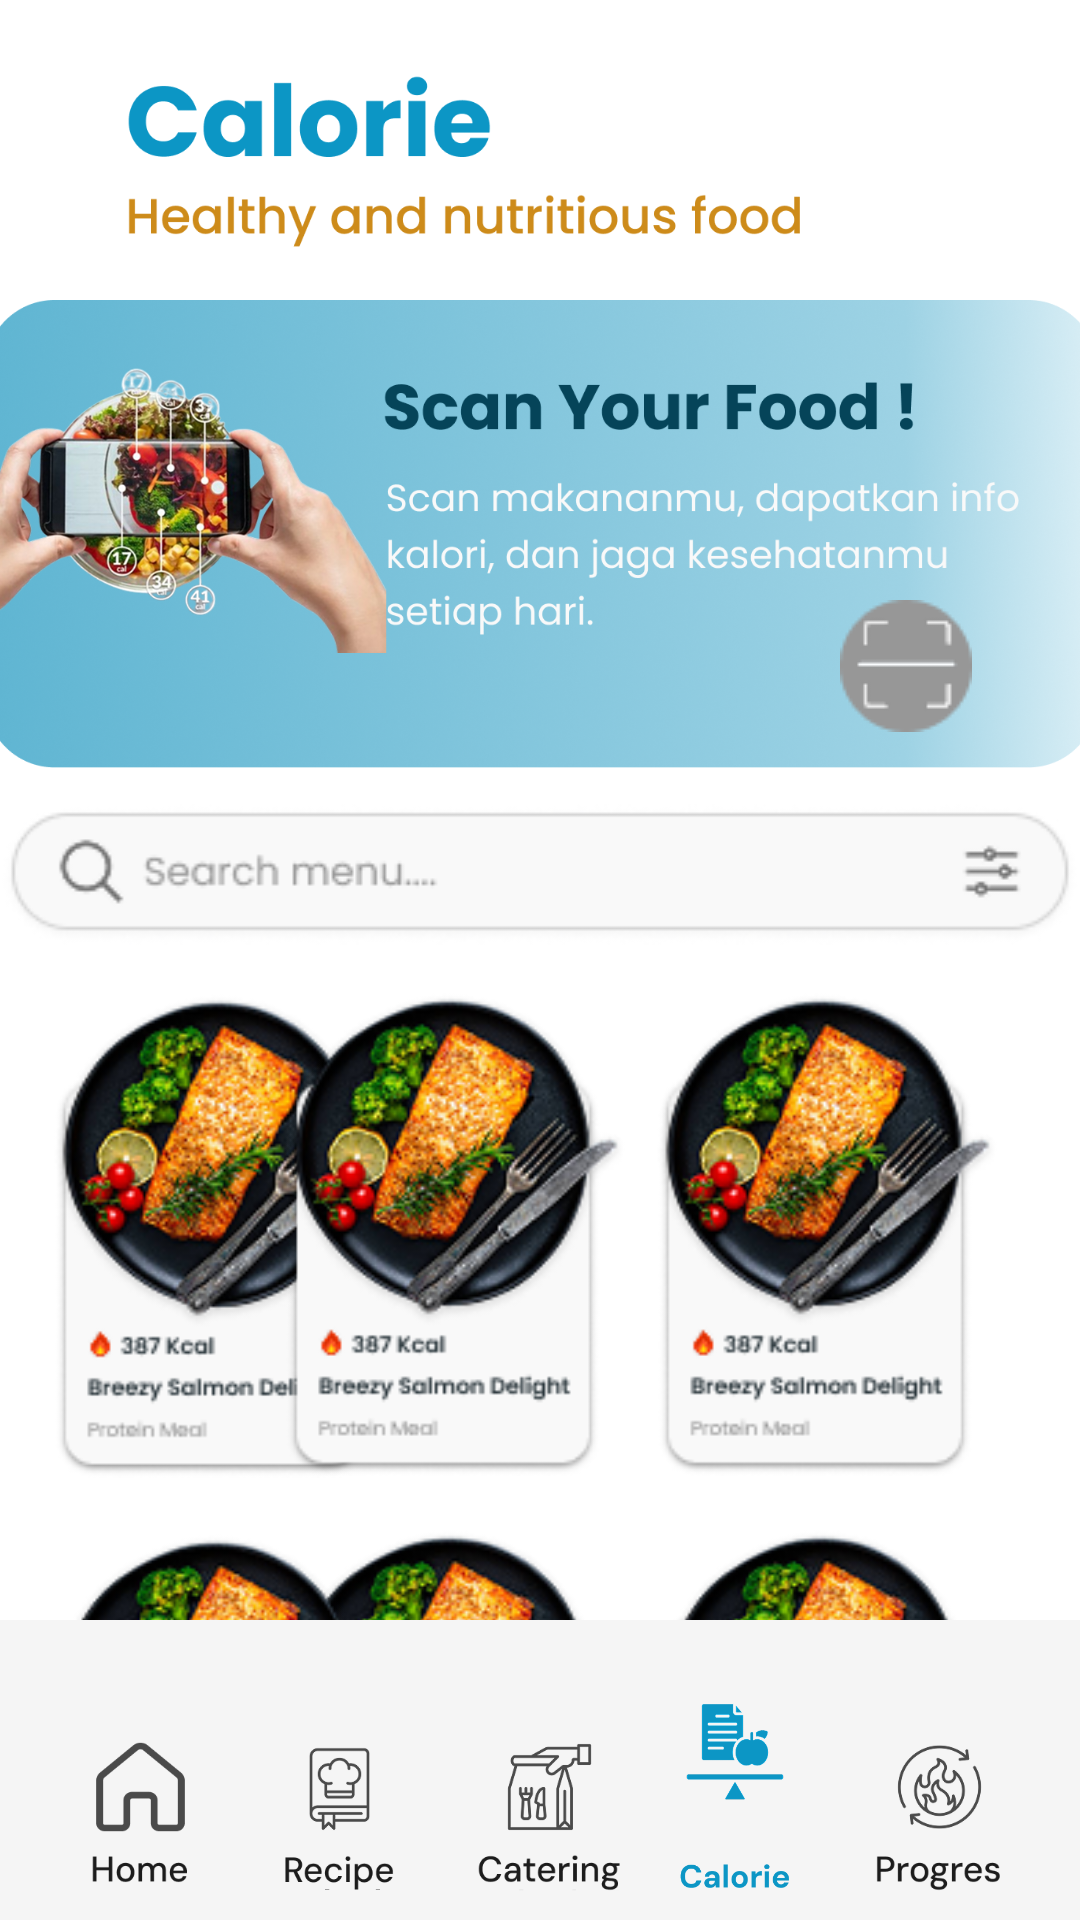

Locate icon controls on the screen. Image size 1080px x 1920px, boxes as (left=x1, top=y1, right=x2, bottom=y2).
scanbutton: (left=840, top=600, right=972, bottom=732)
